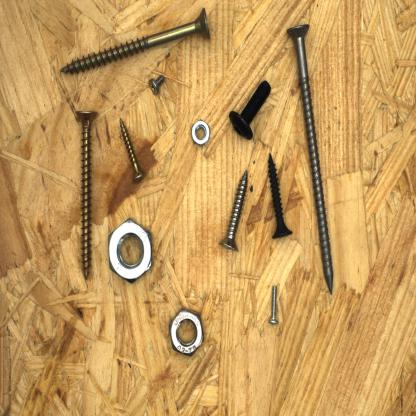screw: (285, 22, 335, 297), (58, 5, 214, 77), (74, 108, 98, 281), (217, 168, 252, 256), (227, 78, 275, 142), (266, 150, 294, 242), (118, 116, 147, 184), (269, 284, 280, 328)
